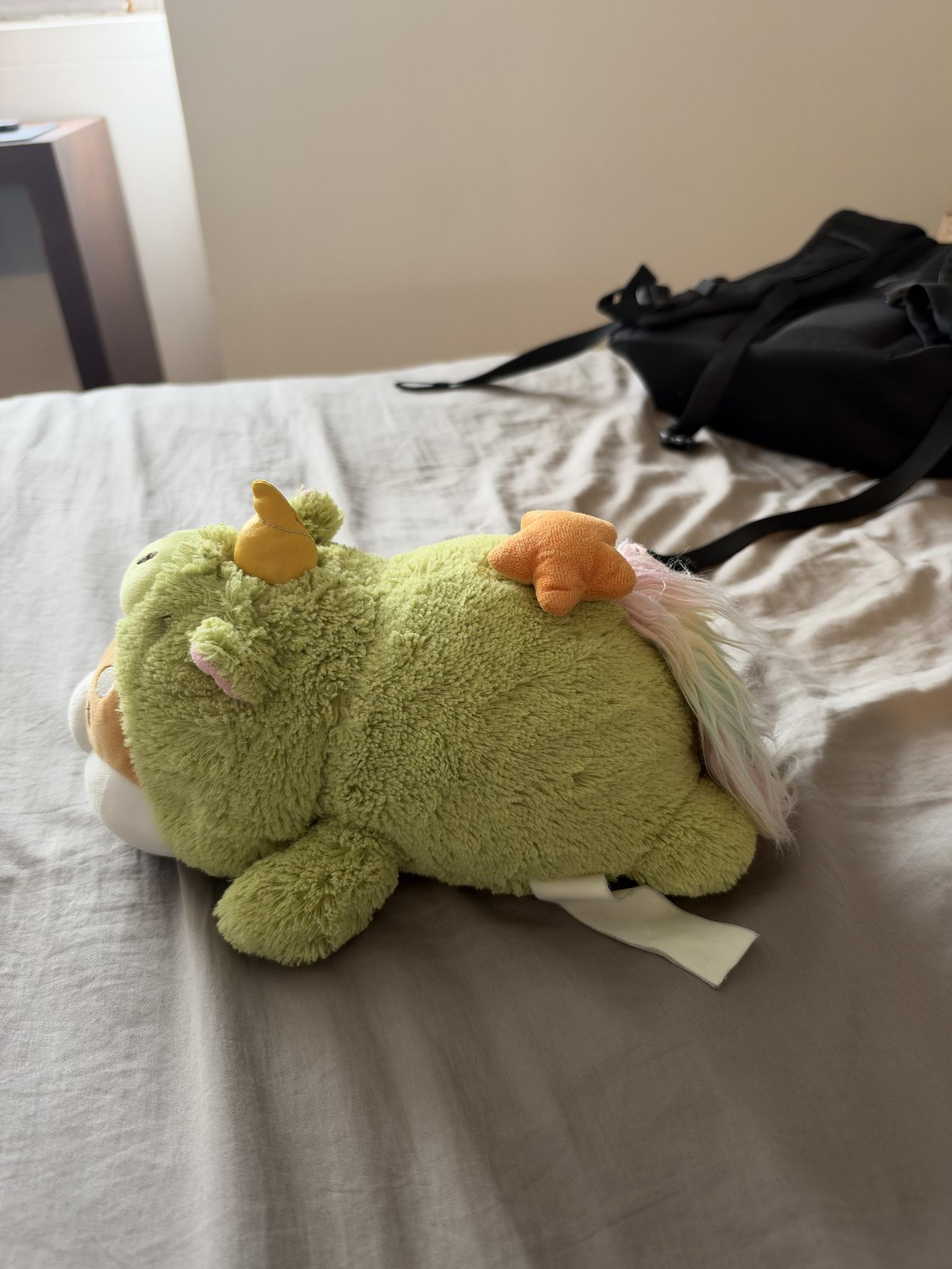peluche_martin: (64, 469, 806, 989)
